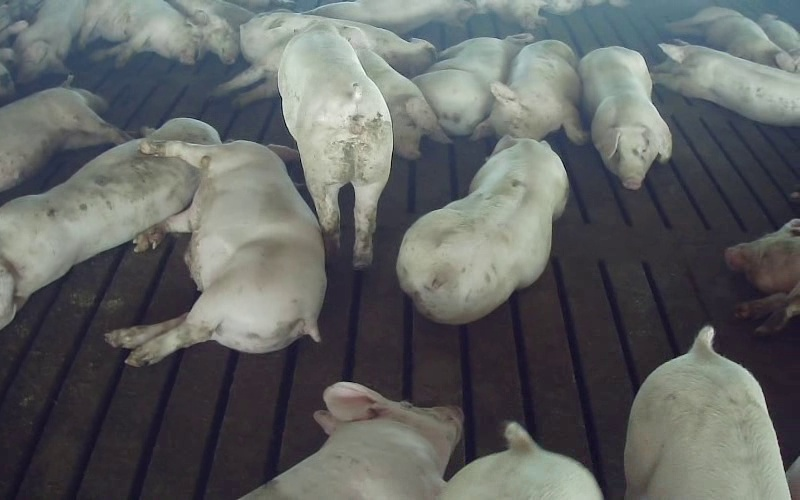pig: (106, 141, 325, 363), (397, 137, 568, 323), (624, 326, 789, 499), (241, 383, 461, 499), (0, 75, 130, 191), (579, 46, 670, 189), (240, 12, 436, 76), (652, 42, 799, 125), (412, 34, 532, 134), (472, 40, 587, 144), (667, 7, 794, 71), (79, 0, 201, 66), (168, 0, 254, 63)
